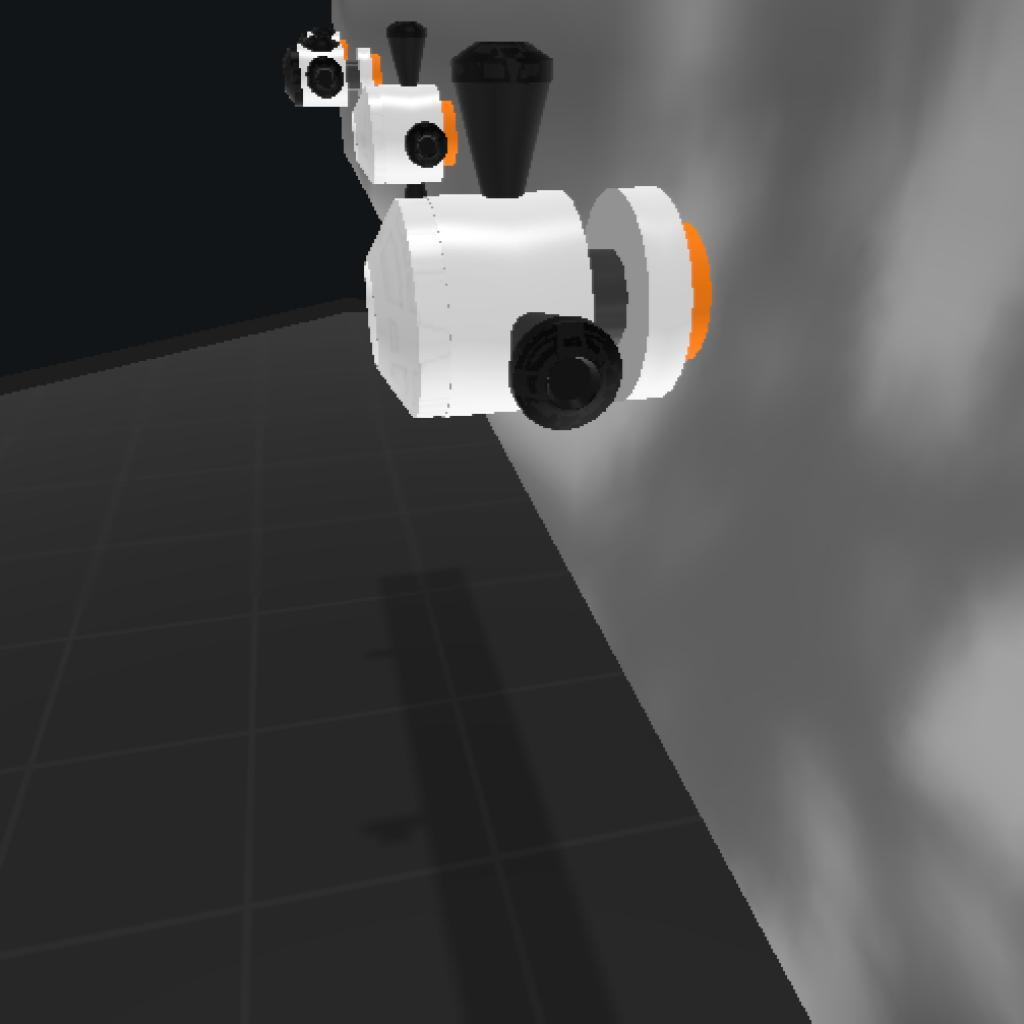thruster: (450, 36, 559, 196), (504, 308, 622, 432), (386, 20, 427, 85), (403, 117, 443, 170), (311, 52, 347, 101), (306, 2, 338, 46), (309, 108, 337, 144), (403, 178, 429, 199)
